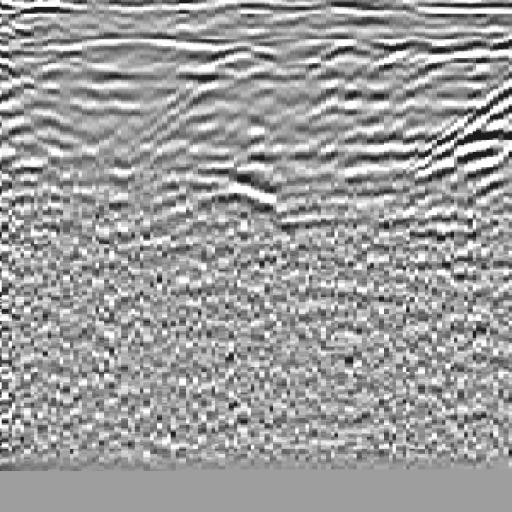metalic: (167, 39, 317, 256)
nonmetalic: (394, 53, 512, 245)
